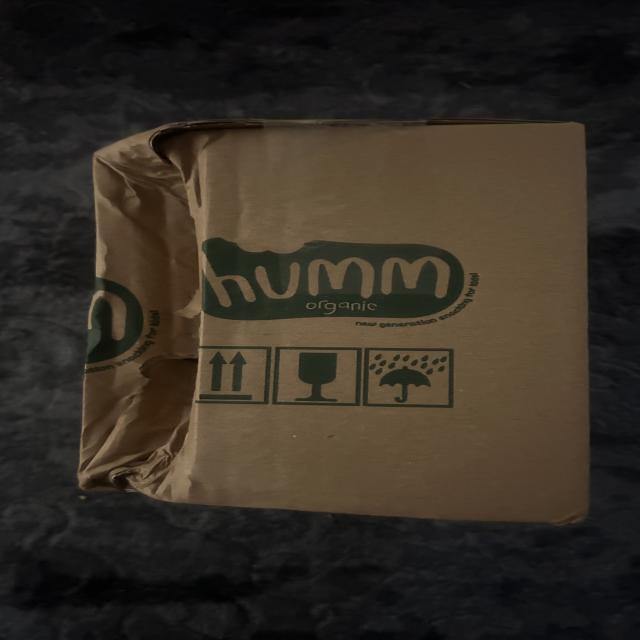damaged: (74, 119, 596, 537), (59, 112, 240, 516)
